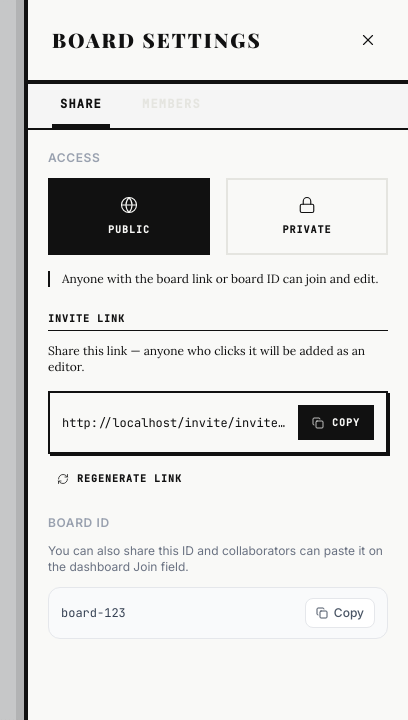
Test case: BoardSettingsPanel › shows access requests with Approve/Deny buttons
Click the button "Members" at coordinates (171, 106), box [134, 84, 209, 128]
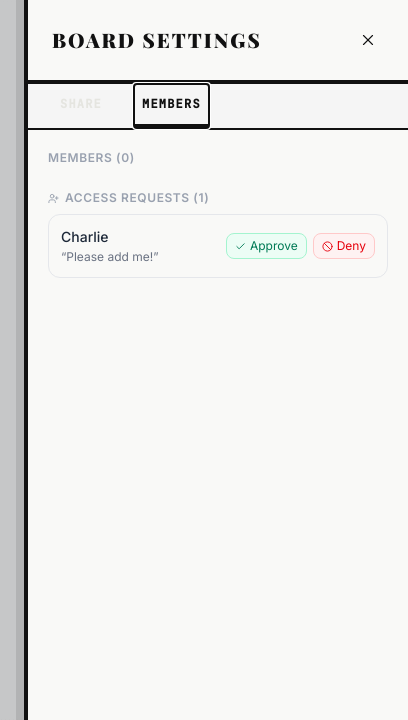
Result: the text "Charlie" is shown at [61, 228, 109, 245]
Result: the button "Approve" is shown at [226, 233, 307, 259]
Result: the button "Deny" is shown at [313, 233, 375, 259]
